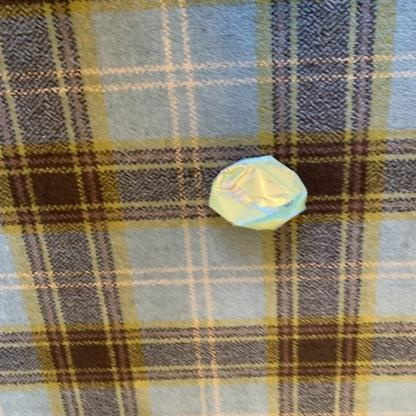trash: (209, 156, 306, 229)
